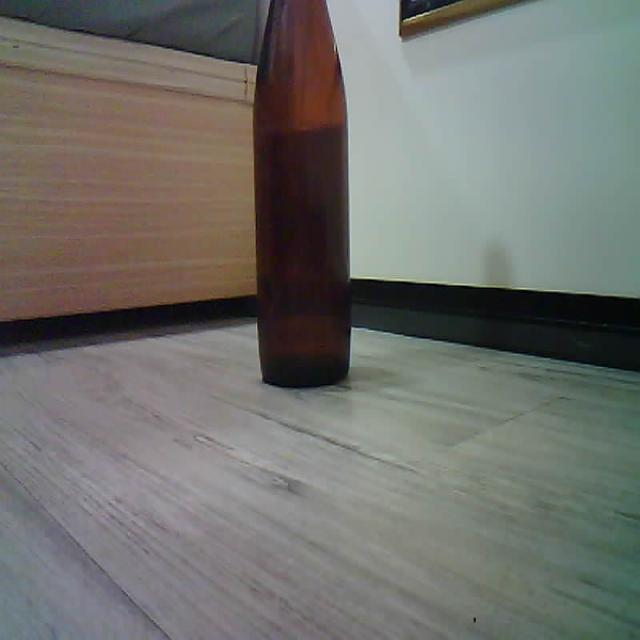bottle: (254, 0, 350, 386)
